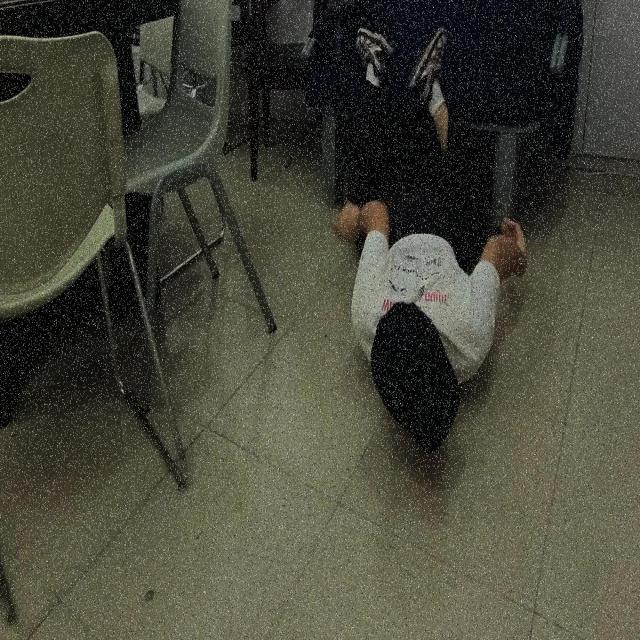fall: (329, 25, 529, 460)
